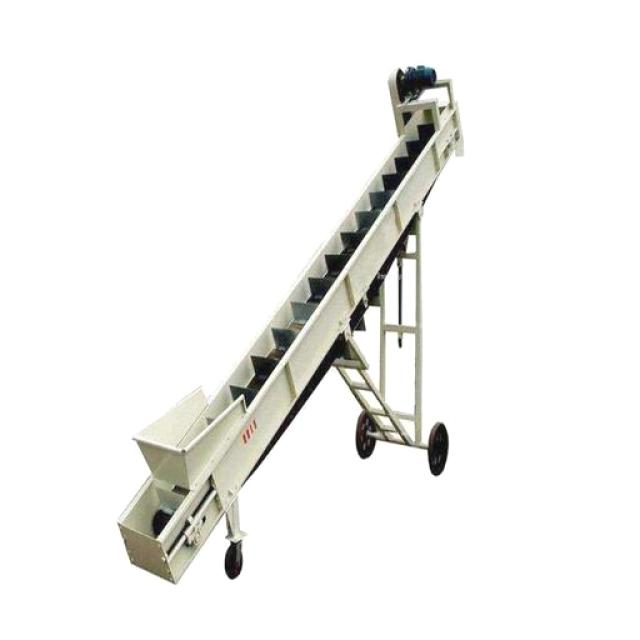conveyor: (118, 107, 456, 537)
